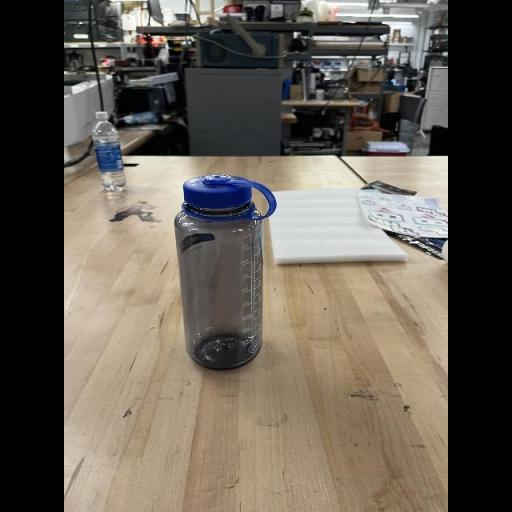bottle: (174, 174, 278, 372)
